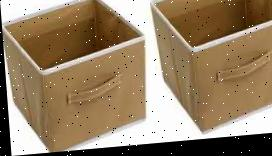cube: (0, 0, 149, 156), (150, 0, 272, 139)
